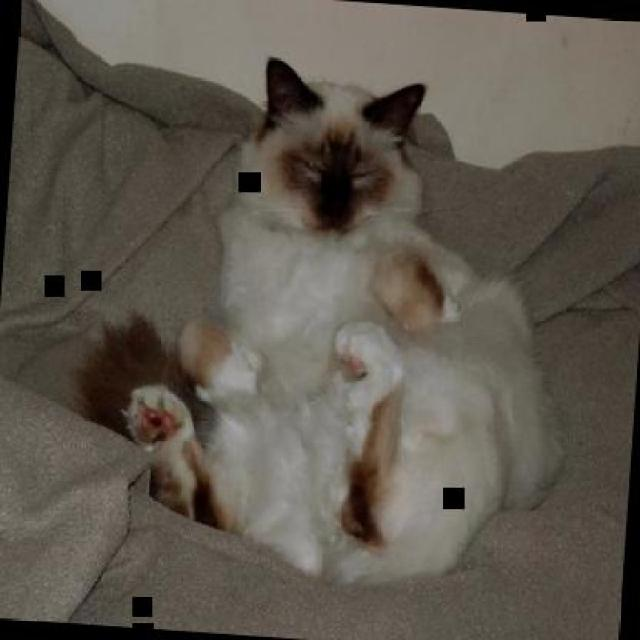cat: (120, 51, 582, 602)
